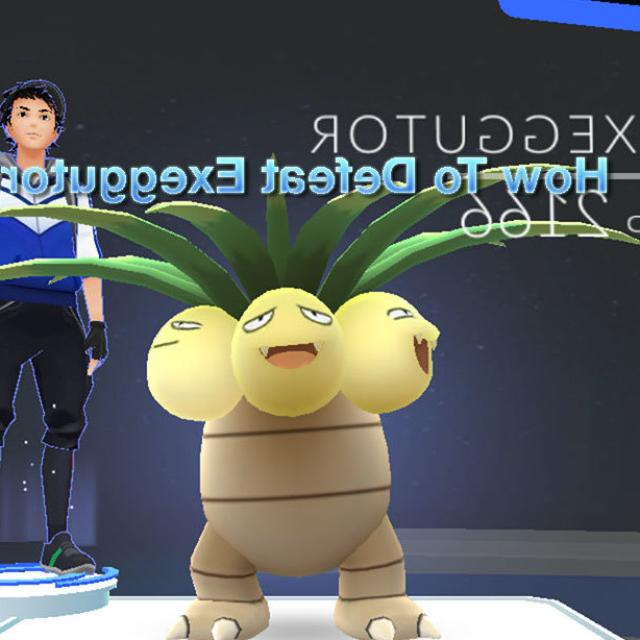Exeggutor: (138, 205, 446, 640)
